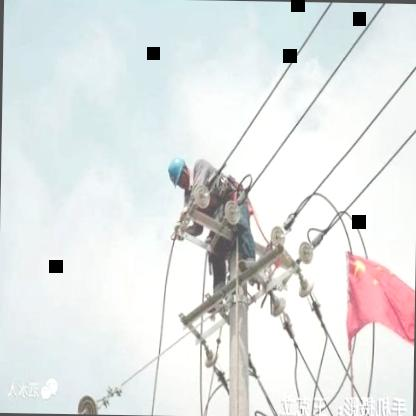helmet: (164, 154, 192, 192)
